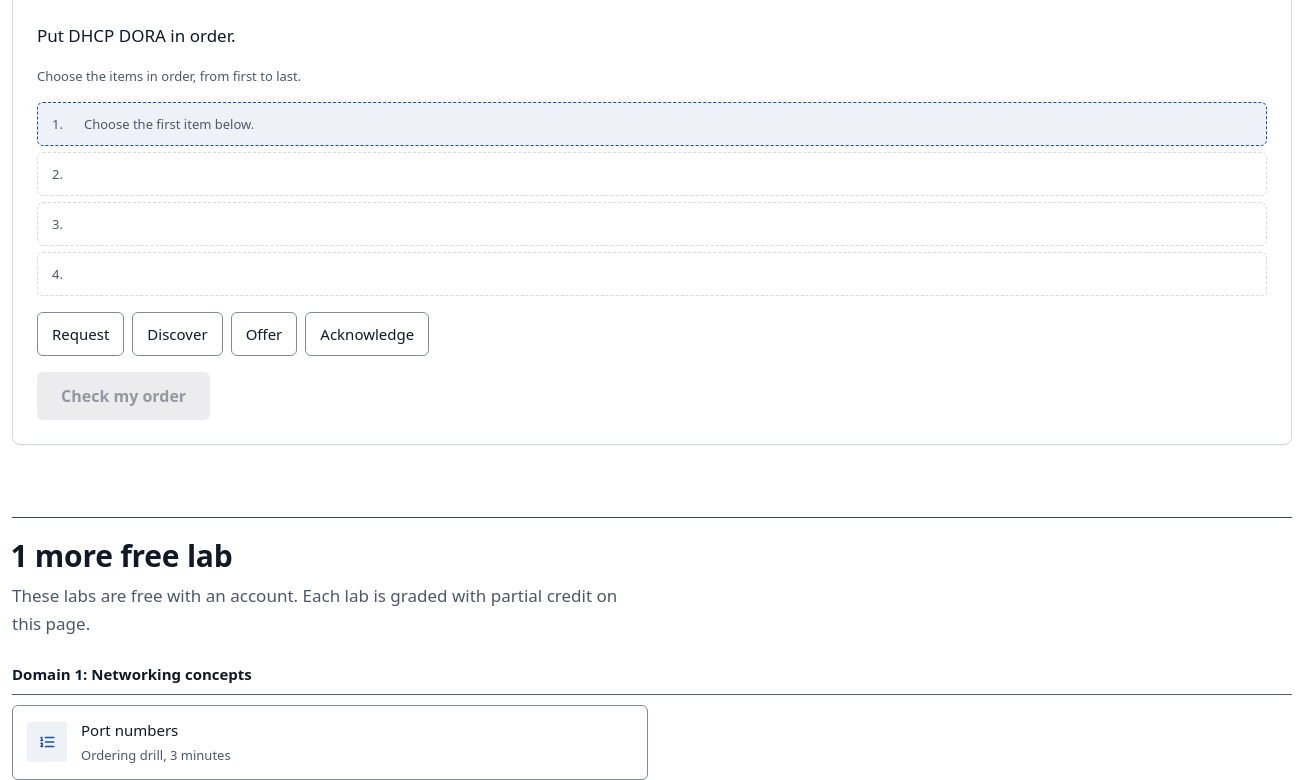
Test case: PbqLab › says one lab in the singular
(page scrolled)
Expected: the heading "1 more free lab" is shown, [12,535,232,576]
Click the button "Port numbers Ordering drill, 3 minutes" at (47, 742), box [12,705,648,779]
(page scrolled)
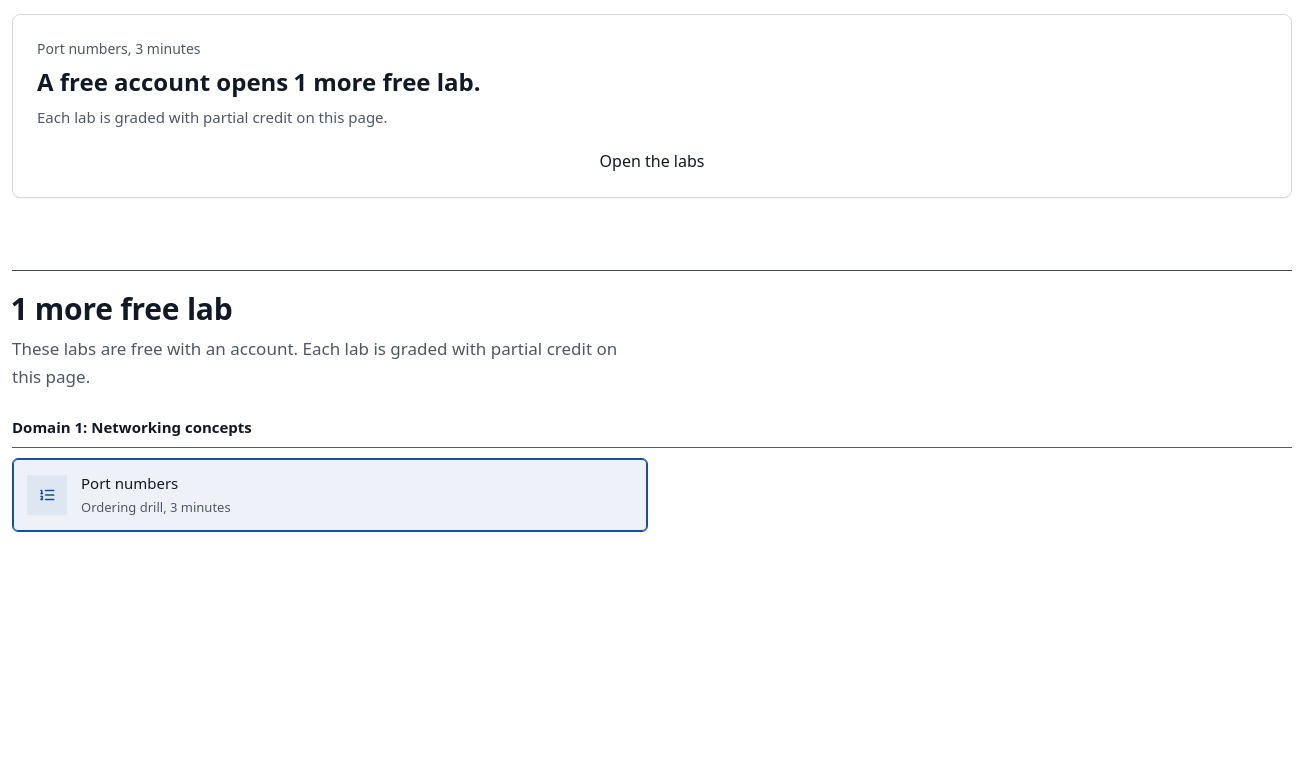
Expected: the heading "A free account opens 1 more free lab." is shown, [37,65,481,98]
